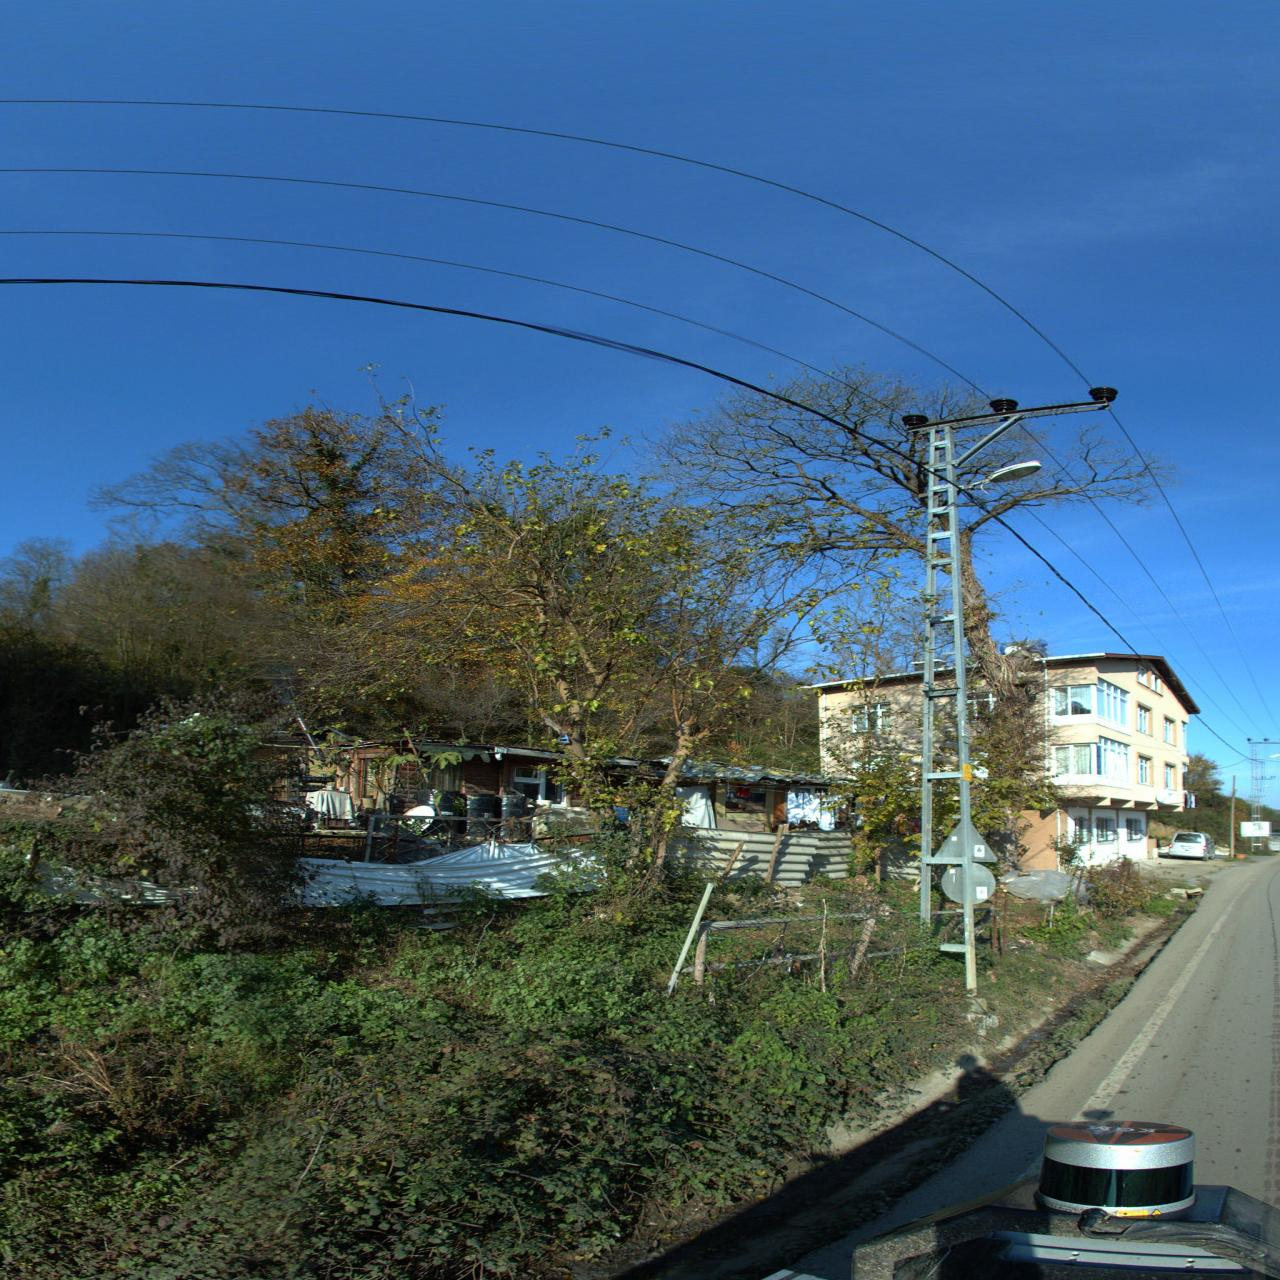Utility Pole Information Plate: (959, 763, 974, 785)
